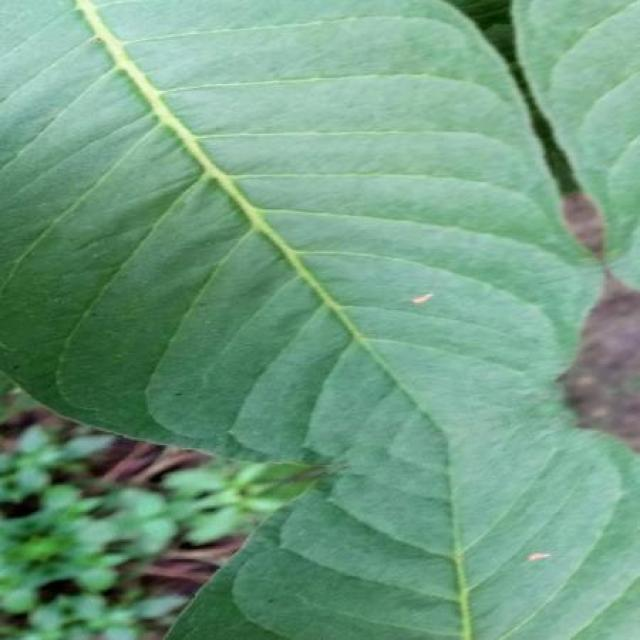Disease Free: (1, 1, 599, 458), (171, 402, 640, 640)
